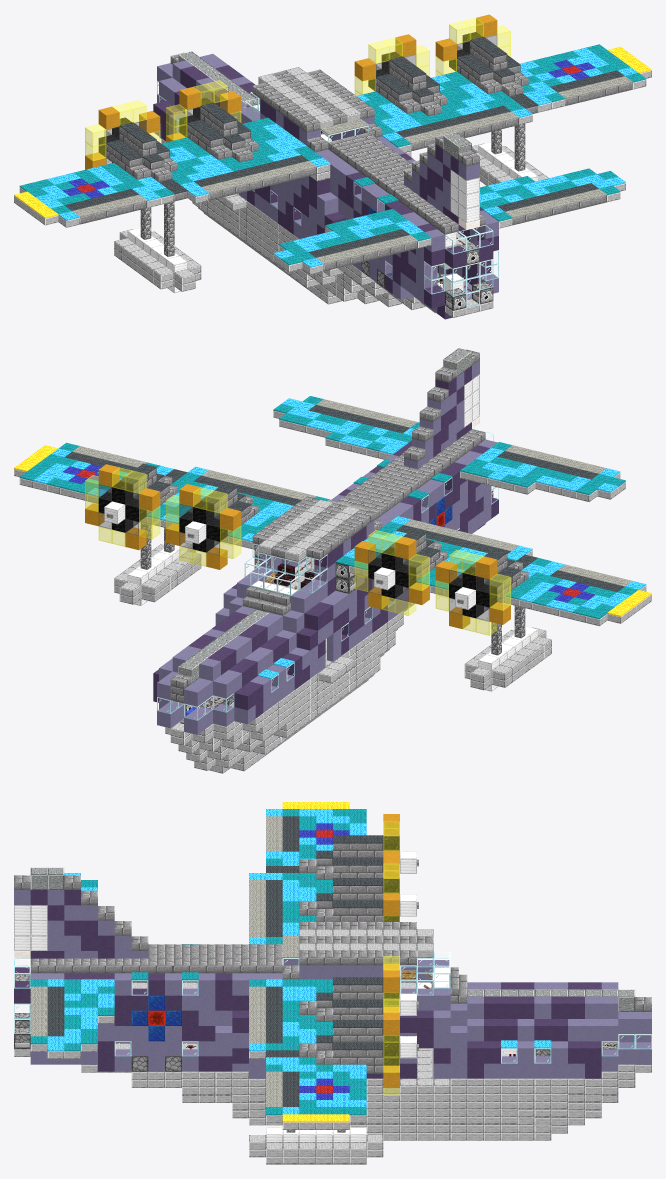
Rendered from nice-plane.glb.
3 renders of one model, top to bottom at view 1: azimuth 30°, elevation 25°; view 2: azimuth 150°, elevation 25°; view 3: azimuth 270°, elevation 25°, orthographic. The views are drawn at different scales.
Parts seen in each view (by area): view 1: Object_6, Object_10, Object_37, Object_30, Object_12, Object_34, Object_4, Object_15, Object_9, Object_32, Object_3, Object_11; view 2: Object_10, Object_6, Object_37, Object_30, Object_12, Object_3, Object_4, Object_34, Object_15, Object_32, Object_9, Object_11 (+1 smaller); view 3: Object_10, Object_6, Object_37, Object_12, Object_34, Object_4, Object_30, Object_32, Object_15, Object_11, Object_3, Object_20 (+1 smaller).
Part boxes in pixels (<box>): Object_6: <box>14,36,651,267</box>; Object_10: <box>85,14,498,319</box>; Object_37: <box>14,52,651,317</box>; Object_30: <box>85,18,510,164</box>; Object_12: <box>159,137,435,313</box>; Object_34: <box>106,41,520,173</box>; Object_4: <box>104,42,538,293</box>; Object_15: <box>157,80,498,307</box>; Object_9: <box>140,123,525,256</box>; Object_32: <box>178,51,471,160</box>; Object_3: <box>98,32,482,162</box>; Object_11: <box>361,242,493,310</box>; Object_10: <box>85,360,510,734</box>; Object_6: <box>14,396,651,678</box>; Object_37: <box>14,349,651,690</box>; Object_30: <box>85,467,510,635</box>; Object_12: <box>165,603,414,773</box>; Object_3: <box>98,481,497,618</box>; Object_4: <box>104,374,538,691</box>; Object_34: <box>133,468,520,612</box>; Object_15: <box>157,428,498,720</box>; Object_32: <box>178,348,471,683</box>; Object_9: <box>140,522,525,655</box>; Object_11: <box>186,490,493,715</box>; Object_10: <box>14,814,651,1087</box>; Object_6: <box>30,802,551,1122</box>; Object_37: <box>14,859,651,1164</box>; Object_12: <box>81,1050,651,1140</box>; Object_34: <box>316,843,383,1073</box>; Object_4: <box>14,851,516,1164</box>; Object_30: <box>383,821,399,1095</box>; Object_32: <box>30,867,635,1011</box>; Object_15: <box>14,952,651,1063</box>; Object_11: <box>14,974,617,1071</box>; Object_3: <box>383,836,399,1065</box>; Object_20: <box>131,995,181,1041</box>.
Bounding box in the file's own units: 2.5 × 0.9444 × 2.11.
38 materials, 38 textured.
